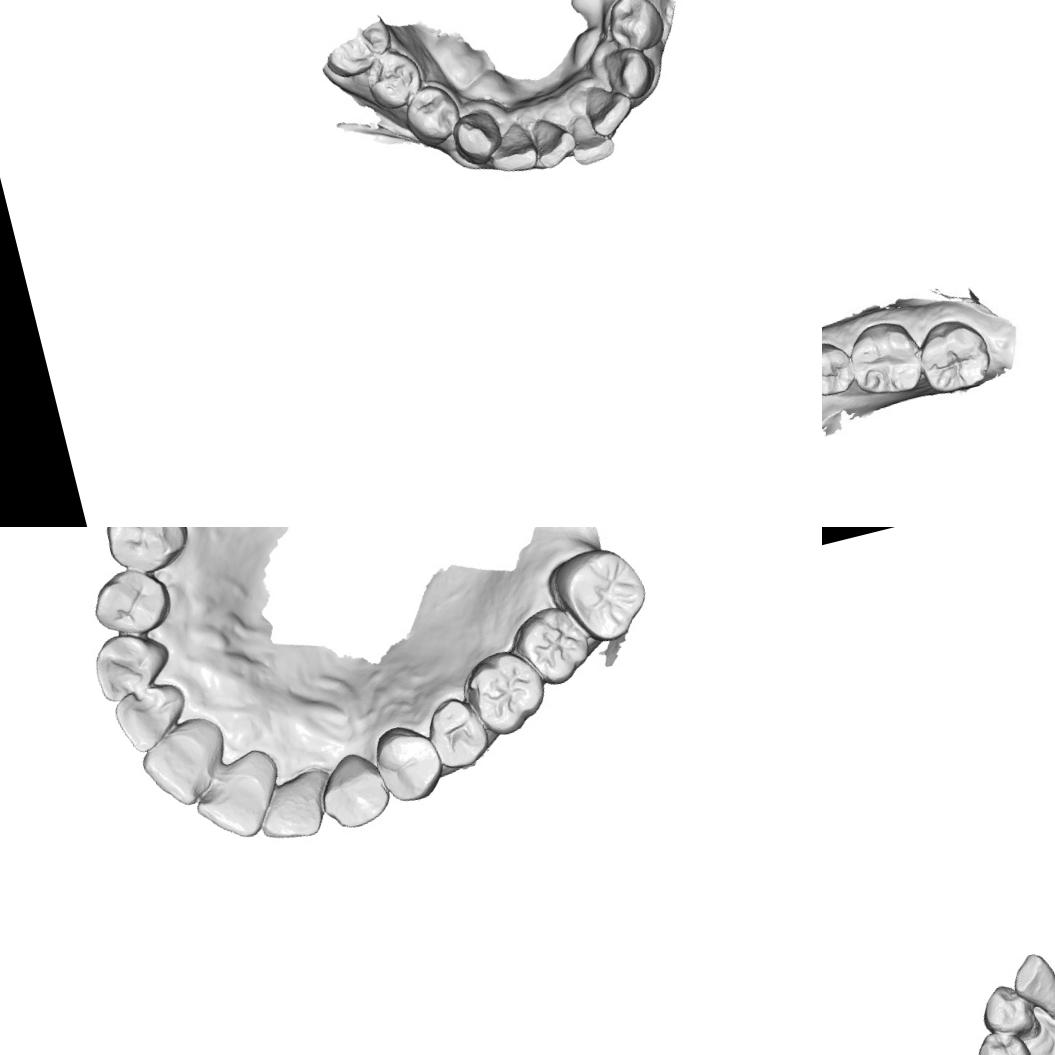canine: (310, 741, 397, 835), (85, 623, 178, 705), (593, 41, 662, 106), (1006, 945, 1055, 1029), (446, 104, 506, 168)
incisor: (133, 724, 228, 816), (184, 757, 276, 850), (104, 675, 197, 759), (249, 771, 336, 849), (480, 115, 543, 180), (578, 78, 638, 142), (523, 109, 582, 173), (561, 105, 618, 170)
molar: (542, 540, 656, 652), (460, 642, 554, 742), (508, 596, 602, 691), (846, 318, 925, 410), (913, 315, 997, 399)
premolar: (368, 716, 452, 809), (84, 559, 176, 642), (419, 690, 494, 776), (94, 527, 196, 582), (973, 976, 1043, 1049), (358, 43, 428, 115), (397, 77, 464, 149), (599, 0, 669, 57), (968, 1022, 1041, 1055), (822, 333, 857, 396)
